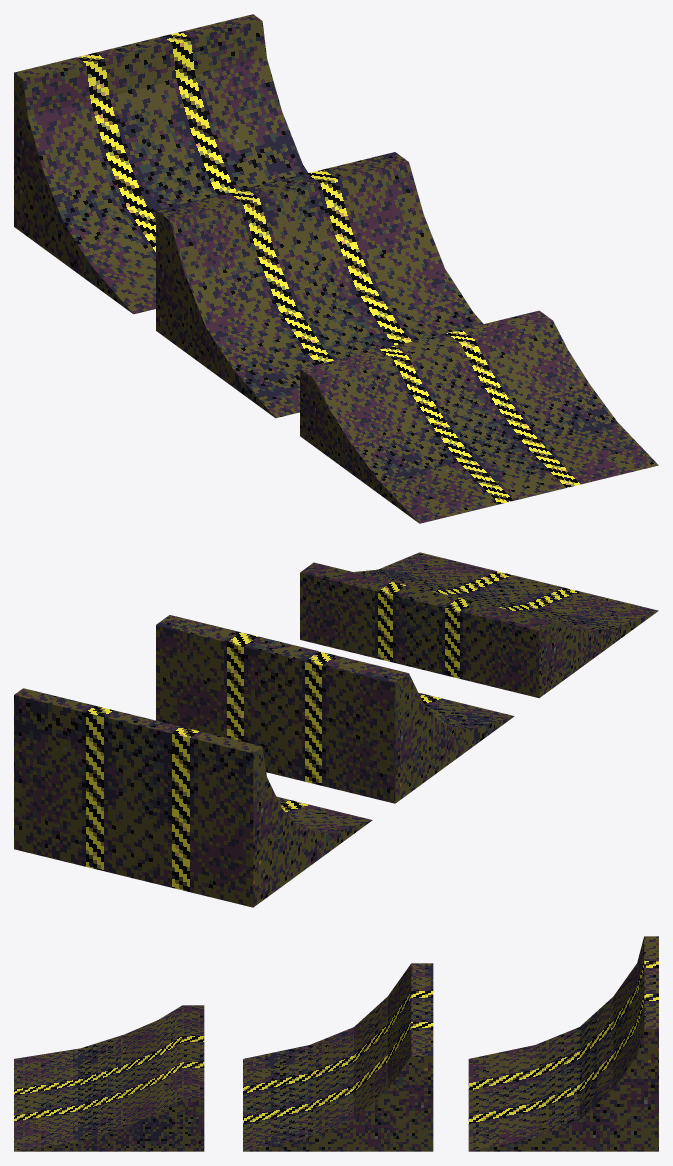
Rendered from ramps.fbx.
3 renders of one model, top to bottom at view 1: azimuth 30°, elevation 25°; view 2: azimuth 150°, elevation 25°; view 3: azimuth 270°, elevation 25°, orthographic. The views are drawn at different scales.
Visible parts, largest first — view 1: ramp, ramp.001, ramp.002; view 2: ramp.001, ramp, ramp.002; view 3: ramp.001, ramp, ramp.002.
Boxes of the visible parts, box(x1,y1,x2,y2) form: ramp: box(156, 152, 483, 418); ramp.001: box(14, 14, 307, 314); ramp.002: box(300, 310, 658, 523); ramp.001: box(14, 688, 372, 907); ramp: box(156, 615, 514, 803); ramp.002: box(300, 552, 658, 698); ramp.001: box(468, 936, 658, 1151); ramp: box(243, 963, 433, 1151); ramp.002: box(14, 1005, 204, 1151).
Bounding box in the file's own units: 577 × 356 × 1696.
Materials: 2 (2 with a texture image).
